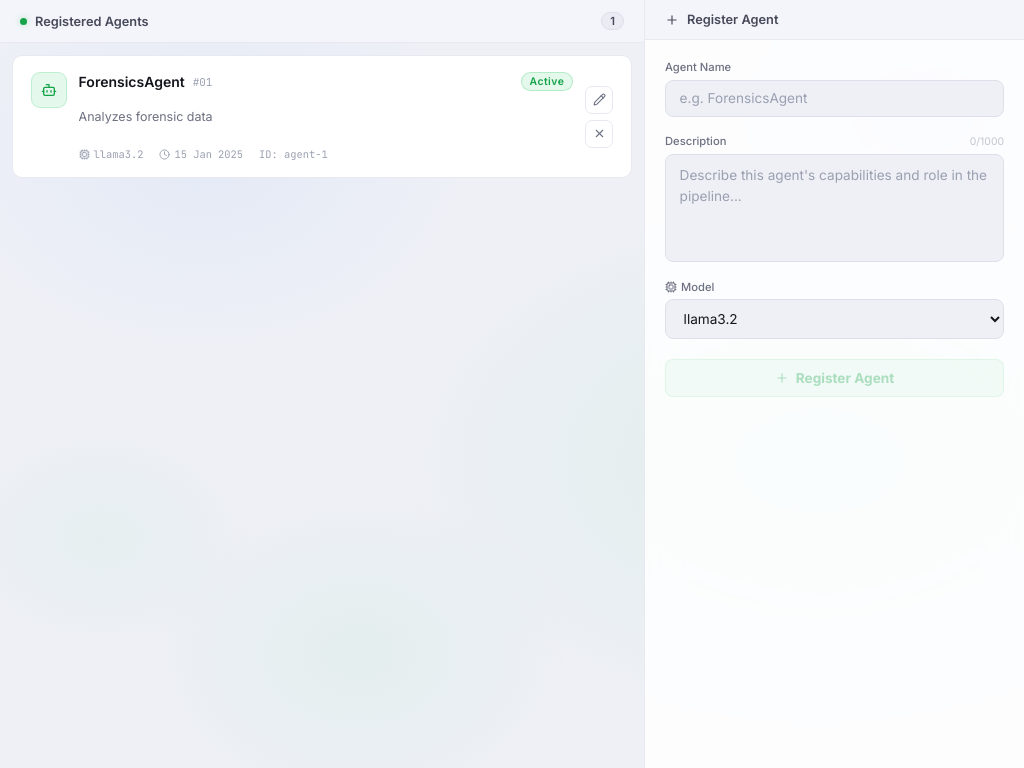
Agents delete › shows an error message when deleteAgent fails
Step 1. Click the button titled "Delete agent" → [599, 134], box [585, 120, 613, 148]
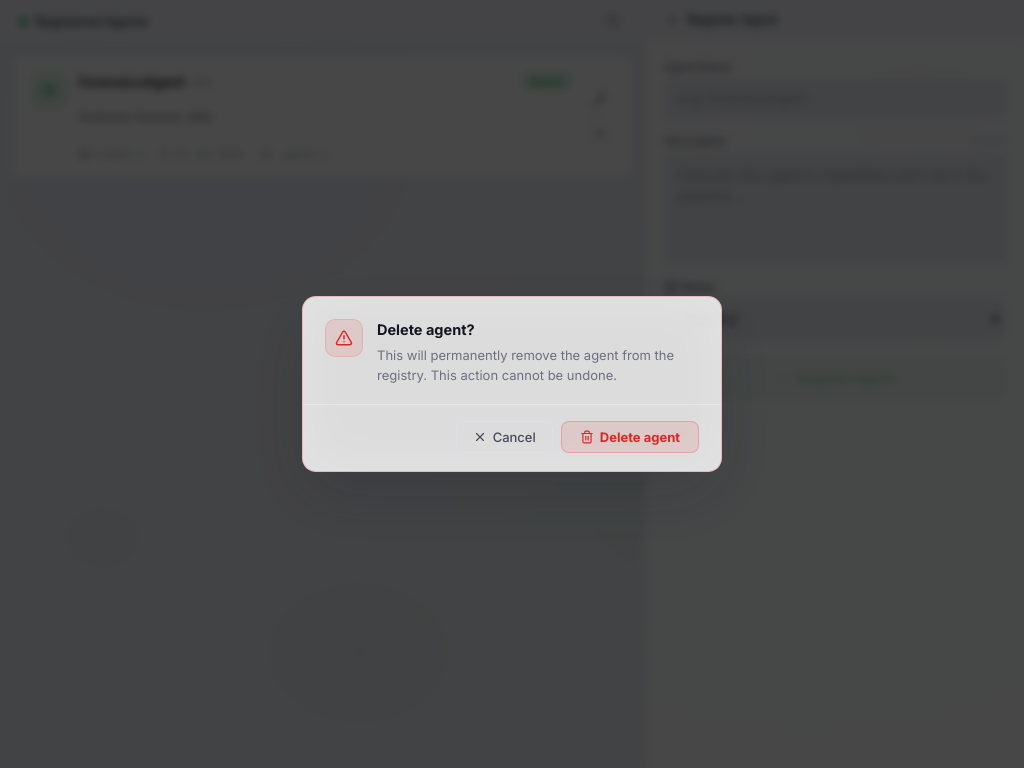
Step 2. Click the button "Delete agent" → [630, 437], box [561, 421, 699, 453]
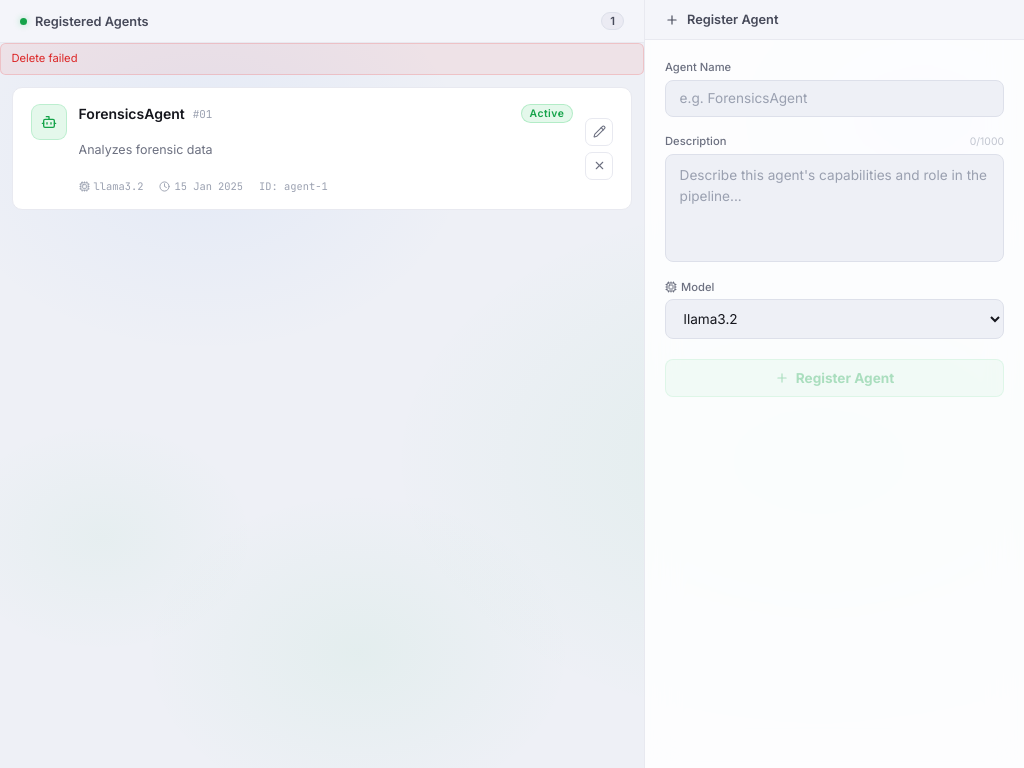
Expected: the text "Delete failed" is shown, [11, 51, 78, 67]
